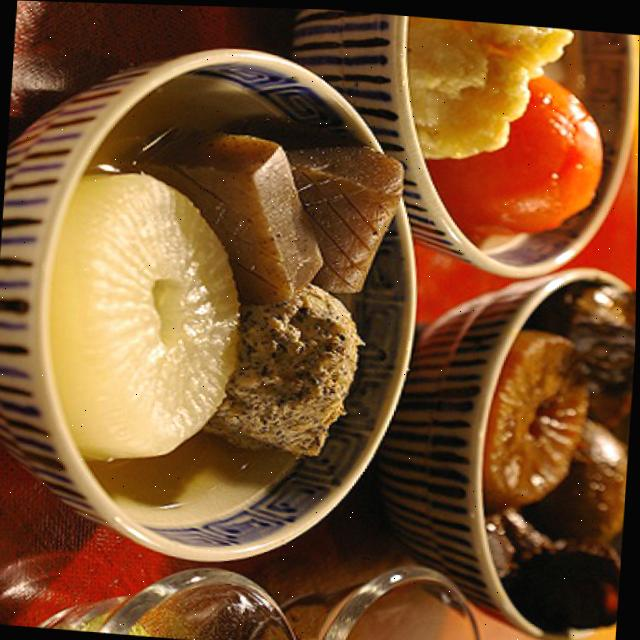汤锅炖物: (0, 36, 307, 456)
